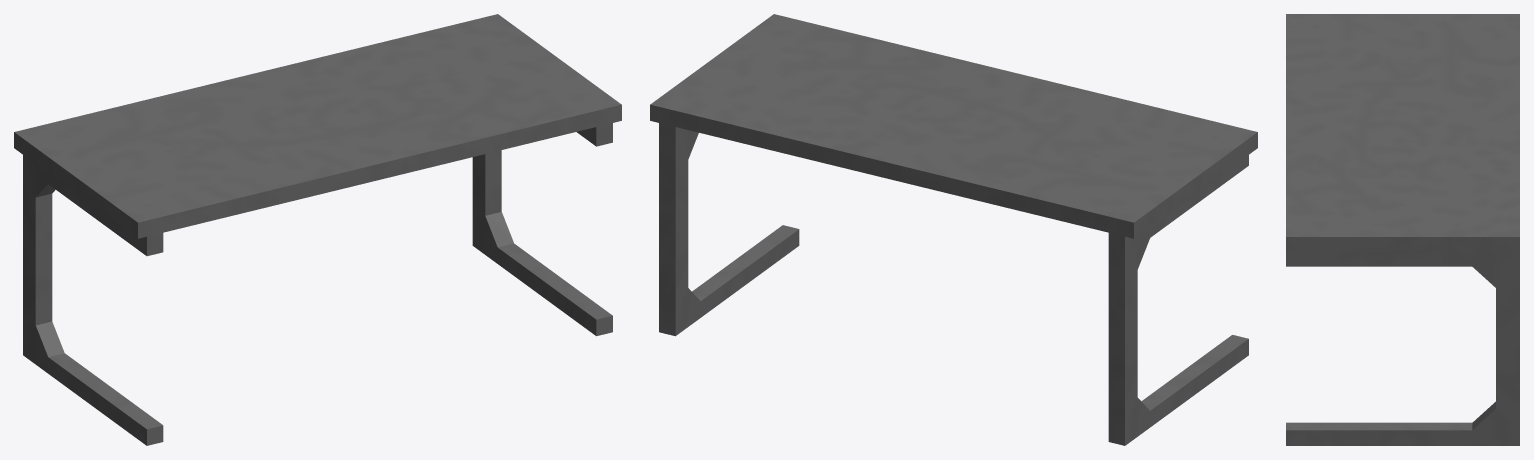
The model's file is LabTable.fbx.
3 renders of one model, left to right at view 1: azimuth 30°, elevation 25°; view 2: azimuth 150°, elevation 25°; view 3: azimuth 270°, elevation 25°, orthographic. The views are drawn at different scales.
Visible parts, largest first — view 1: Cube.108; view 2: Cube.108; view 3: Cube.108.
Part boxes in pixels (x1=…): Cube.108: x1=14, y1=14, x2=621, y2=445; Cube.108: x1=650, y1=14, x2=1257, y2=445; Cube.108: x1=1286, y1=14, x2=1519, y2=445.
Bounding box in the file's own units: 312 × 139 × 139.
